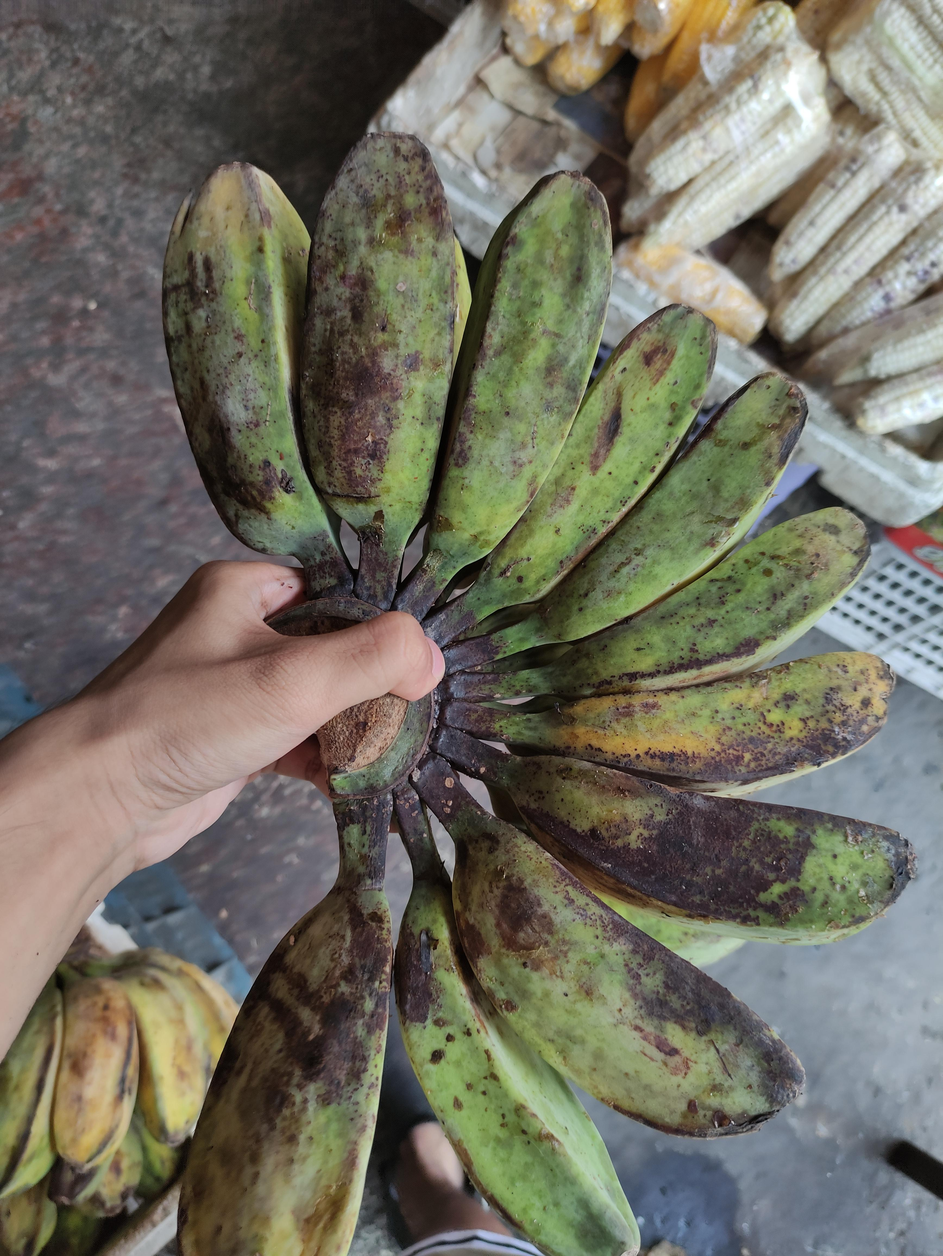underripe: (164, 133, 917, 1256), (0, 943, 238, 1201)
